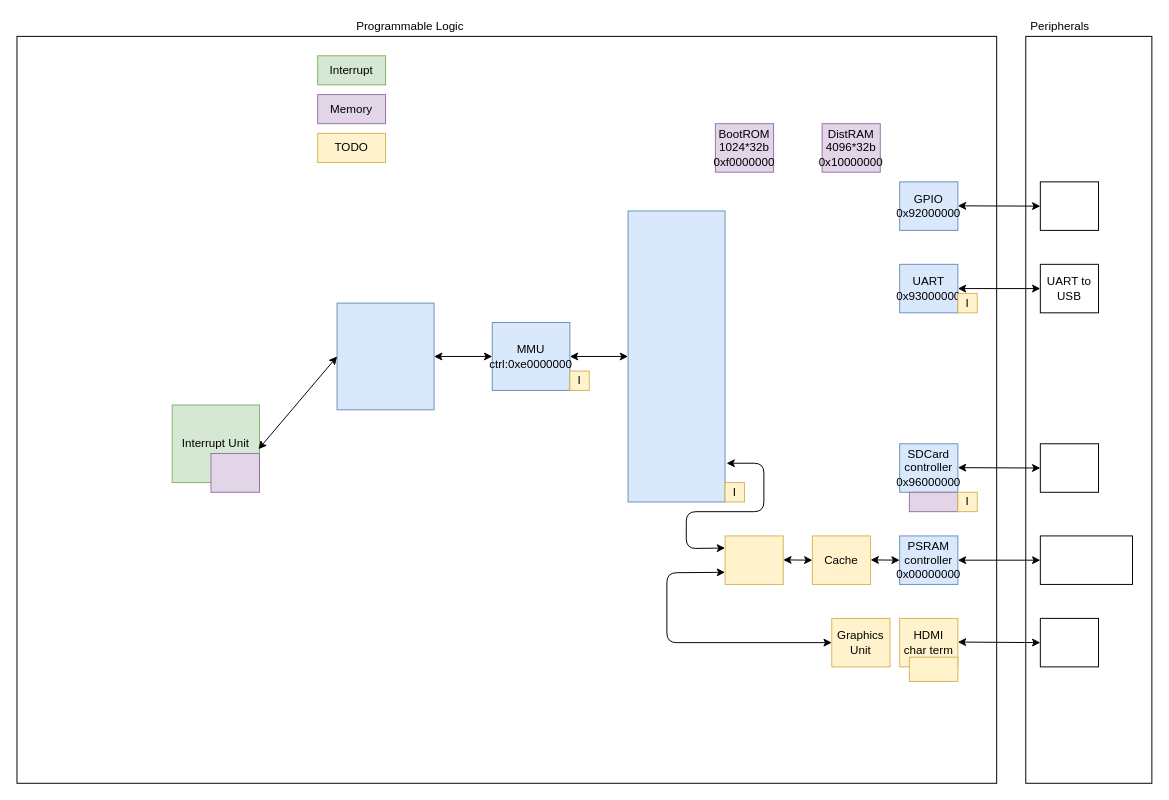
This 1169x800 diagram has some shape labels left out. The shapes that lost their labels are listed below. From the top down, each one's centre as x and y in pixels, then its label:
At point (1069, 205): "LED, Button".
At point (385, 356): "RISC-V multicycle (RV32I, RV32M)".
At point (676, 356): "memory mapper (combinatorial)".
At point (234, 472): "256*32 0x80000000".
At point (1069, 467): "SD card(big)".
At point (933, 501): "512B".
At point (753, 559): "Memory Divider".
At point (1085, 559): "ESP-PSRAM64H x8".
At point (1069, 642): "HDMI".
At point (933, 668): "80*24*2B".
